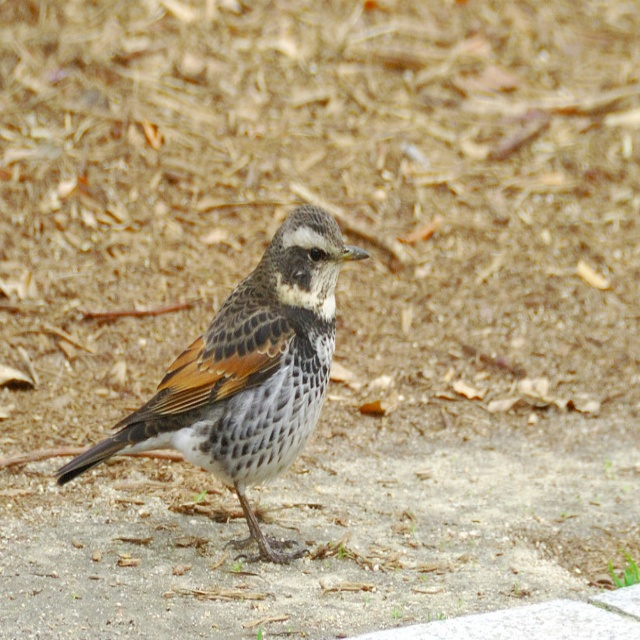Sparrow: (52, 202, 372, 565)
